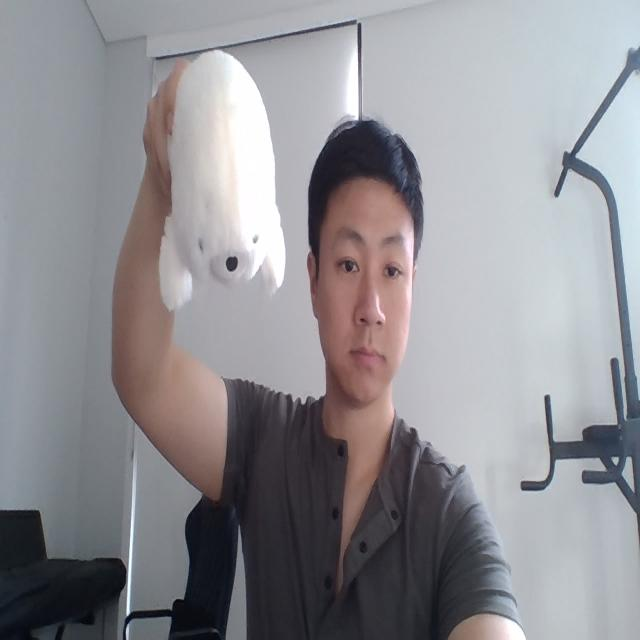seal_bb: (158, 49, 287, 314)
